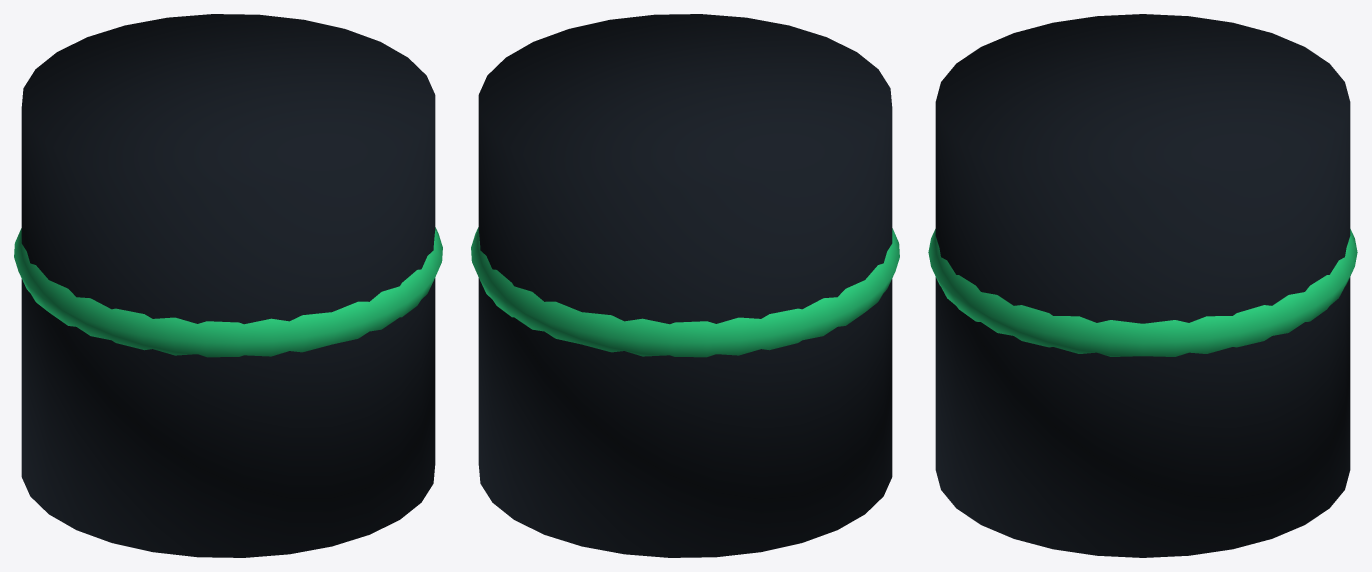
Rendered from 17_L93_ArchiveQualificationBeacon.fbx.
3 renders of one model, left to right at view 1: azimuth 30°, elevation 25°; view 2: azimuth 150°, elevation 25°; view 3: azimuth 270°, elevation 25°, orthographic.
Visible parts, largest first — view 1: L92_ArchiveQualificationBeacon_Part_0000, L92_ArchiveQualificationBeacon_Part_0001; view 2: L92_ArchiveQualificationBeacon_Part_0000, L92_ArchiveQualificationBeacon_Part_0001; view 3: L92_ArchiveQualificationBeacon_Part_0000, L92_ArchiveQualificationBeacon_Part_0001.
Boxes of the visible parts, left/top/right/bottom form: L92_ArchiveQualificationBeacon_Part_0000: left=21, top=14, right=435, bottom=557; L92_ArchiveQualificationBeacon_Part_0001: left=14, top=227, right=442, bottom=357; L92_ArchiveQualificationBeacon_Part_0000: left=478, top=14, right=892, bottom=557; L92_ArchiveQualificationBeacon_Part_0001: left=471, top=227, right=899, bottom=357; L92_ArchiveQualificationBeacon_Part_0000: left=935, top=14, right=1350, bottom=557; L92_ArchiveQualificationBeacon_Part_0001: left=928, top=229, right=1357, bottom=356.
Bounding box in the file's own units: 116 × 110 × 116.
